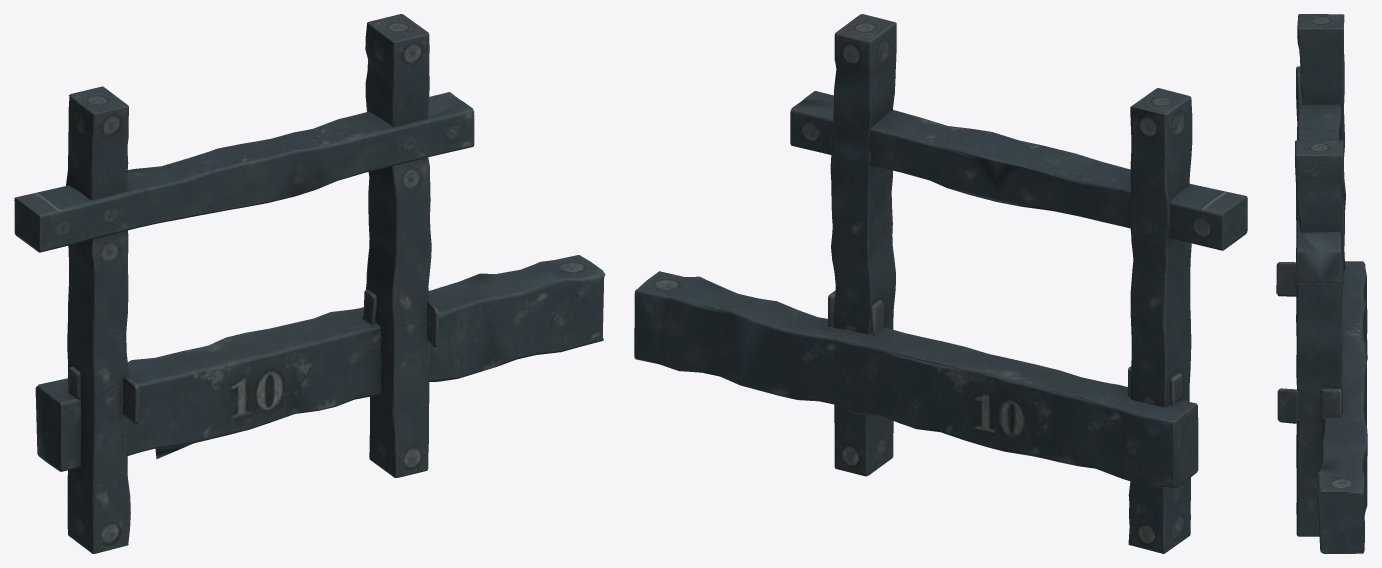
The model's file is timber-brace.glb.
3 renders of one model, left to right at view 1: azimuth 30°, elevation 25°; view 2: azimuth 150°, elevation 25°; view 3: azimuth 270°, elevation 25°, orthographic. The views are drawn at different scales.
Bounding box in the file's own units: 1 × 0.7307 × 0.1567.
1 material, 1 textured.
